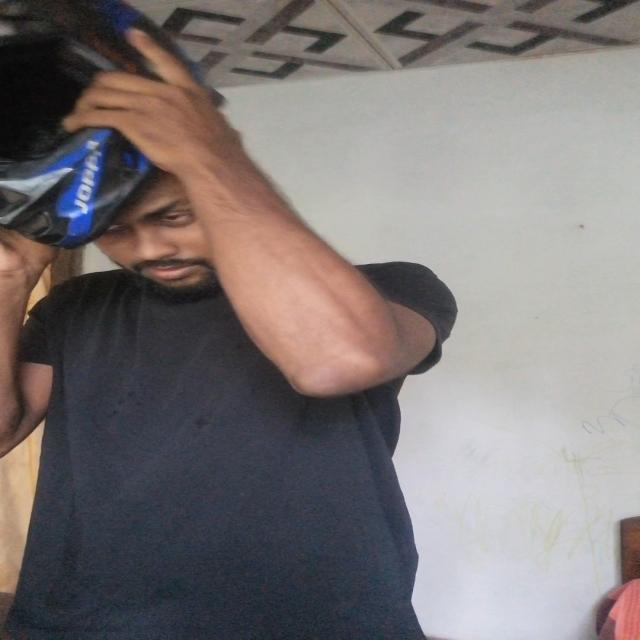Helmet_Wearer: (12, 0, 247, 256)
Person: (0, 42, 486, 640)
